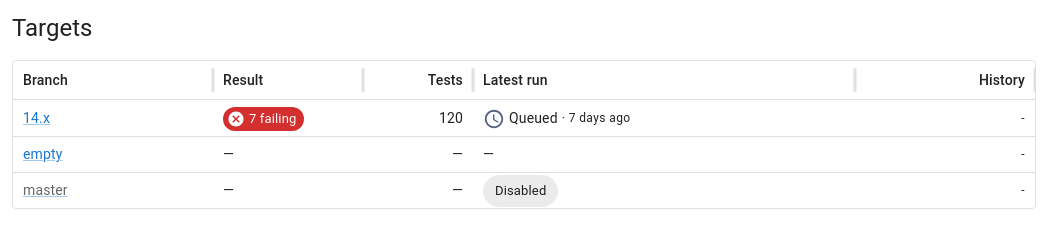
TargetsPage › navigates when another cell in the row is clicked
The width and height of the screenshot is (1048, 226).
Click the text "7 failing" at (273, 118), box x1=249 y1=111 x2=296 y2=126
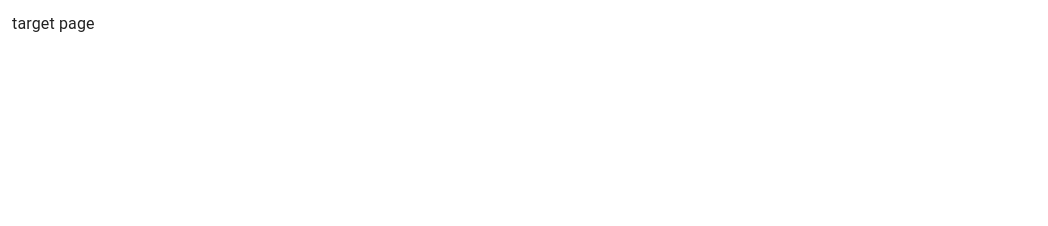
Now the text "target page" is shown, box x1=12 y1=14 x2=95 y2=33
